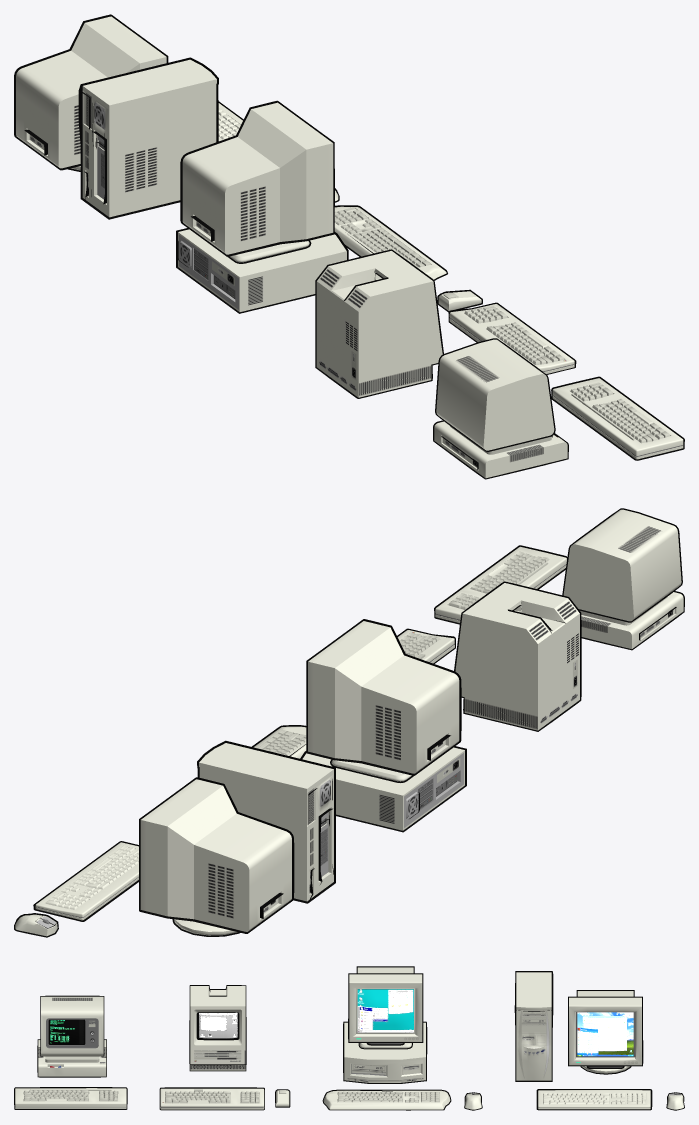
The model's file is cartoon.glb.
3 views of the same model, one above another, from view 1: azimuth 30°, elevation 25°; view 2: azimuth 150°, elevation 25°; view 3: azimuth 270°, elevation 25° (orthographic). The views are drawn at different scales.
Parts seen in each view (by area): view 1: screen1, tower, mac, ibm, screen2, desktop, ibm_keyboard.001, ibm_keys.001, mac_keys, mac_keyboard, desktop_keys, tower_outline (+5 smaller); view 2: screen1, screen2, mac, ibm, tower, desktop, tower_keyboard, tower_keys, ibm_keyboard.001, ibm_keys.001, screen1_outline, screen2_outline (+6 smaller); view 3: screen1, screen2, ibm, mac, tower, desktop, desktop_keyboard, ibm_keyboard.001, mac_keyboard, tower_keyboard, tower_keys, mac_keys (+14 smaller).
Boxes of the visible parts, x1=… form: screen1: x1=182, y1=102, x2=333, y2=262; tower: x1=82, y1=59, x2=216, y2=217; mac: x1=316, y1=251, x2=442, y2=397; ibm: x1=434, y1=339, x2=567, y2=478; screen2: x1=16, y1=16, x2=166, y2=170; desktop: x1=178, y1=229, x2=346, y2=311; ibm_keyboard.001: x1=552, y1=378, x2=683, y2=459; ibm_keys.001: x1=570, y1=382, x2=669, y2=443; mac_keys: x1=464, y1=305, x2=564, y2=365; mac_keyboard: x1=449, y1=304, x2=574, y2=373; desktop_keys: x1=334, y1=207, x2=430, y2=267; tower_outline: x1=78, y1=57, x2=218, y2=219; screen1: x1=308, y1=621, x2=459, y2=781; screen2: x1=140, y1=779, x2=291, y2=935; mac: x1=455, y1=583, x2=579, y2=730; ibm: x1=563, y1=509, x2=683, y2=648; tower: x1=199, y1=743, x2=333, y2=901; desktop: x1=302, y1=747, x2=464, y2=830; tower_keyboard: x1=35, y1=842, x2=138, y2=920; tower_keys: x1=46, y1=845, x2=138, y2=909; ibm_keyboard.001: x1=435, y1=546, x2=566, y2=622; ibm_keys.001: x1=448, y1=551, x2=548, y2=609; screen1_outline: x1=306, y1=619, x2=461, y2=782; screen2_outline: x1=139, y1=777, x2=294, y2=936; screen1: x1=349, y1=967, x2=422, y2=1048; screen2: x1=569, y1=991, x2=641, y2=1073; ibm: x1=38, y1=996, x2=106, y2=1076; mac: x1=190, y1=986, x2=245, y2=1070; tower: x1=516, y1=972, x2=551, y2=1080; desktop: x1=344, y1=1022, x2=425, y2=1082; desktop_keyboard: x1=323, y1=1090, x2=450, y2=1109; ibm_keyboard.001: x1=15, y1=1088, x2=126, y2=1108; mac_keyboard: x1=160, y1=1088, x2=264, y2=1109; tower_keyboard: x1=538, y1=1090, x2=650, y2=1109; tower_keys: x1=543, y1=1093, x2=646, y2=1104; mac_keys: x1=165, y1=1091, x2=259, y2=1103.
Size of the model in its own units: 3.84 by 2.62 by 16.45.
2 materials, 1 textured.
